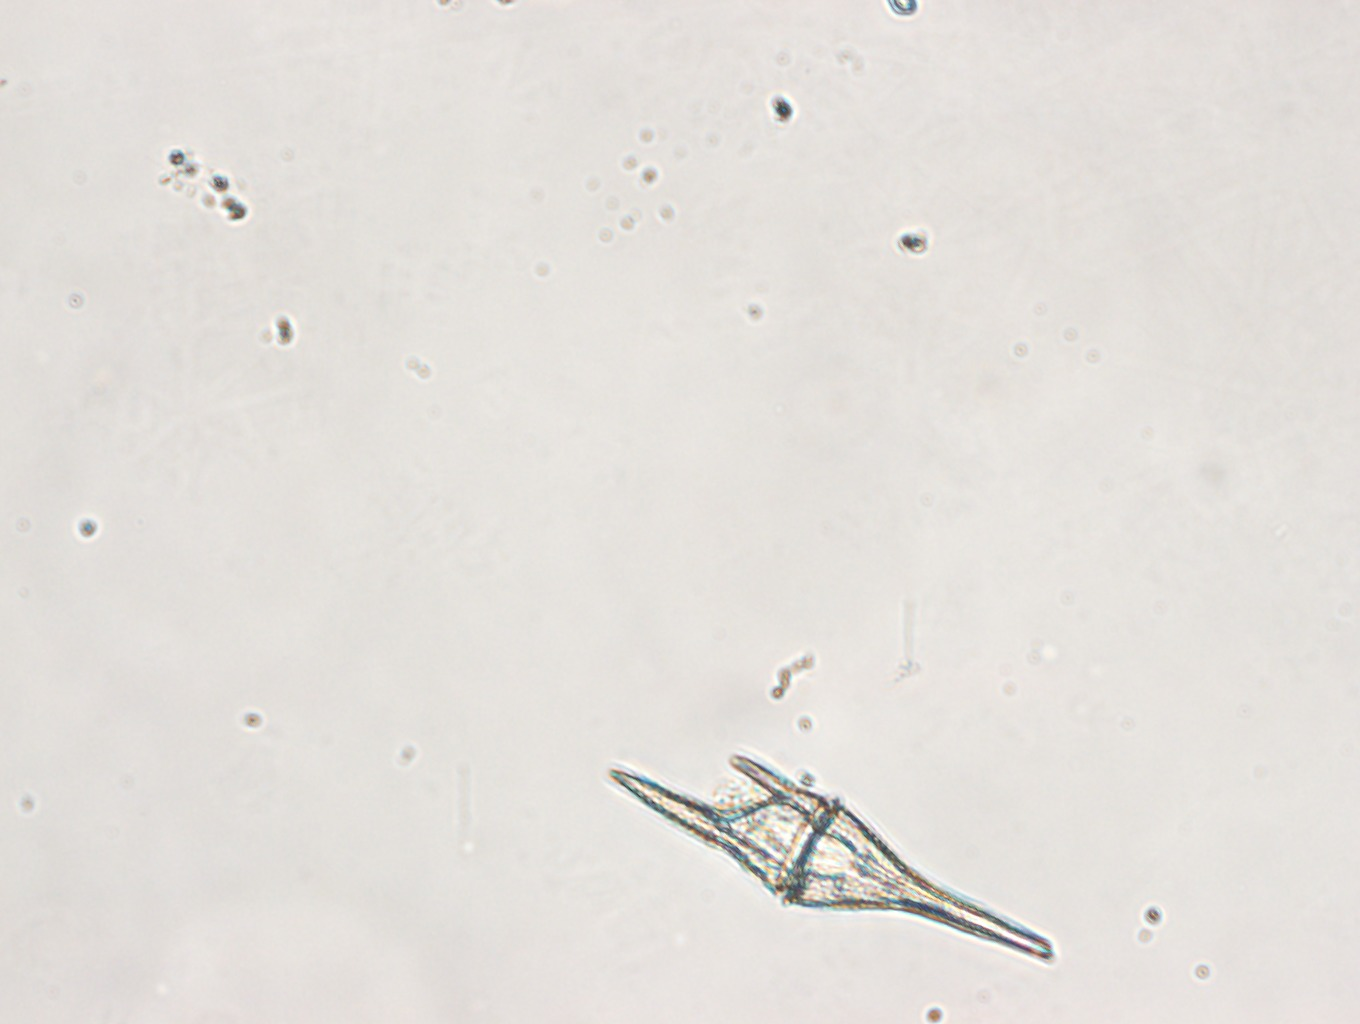ceratium furca: (607, 742, 1062, 962)
